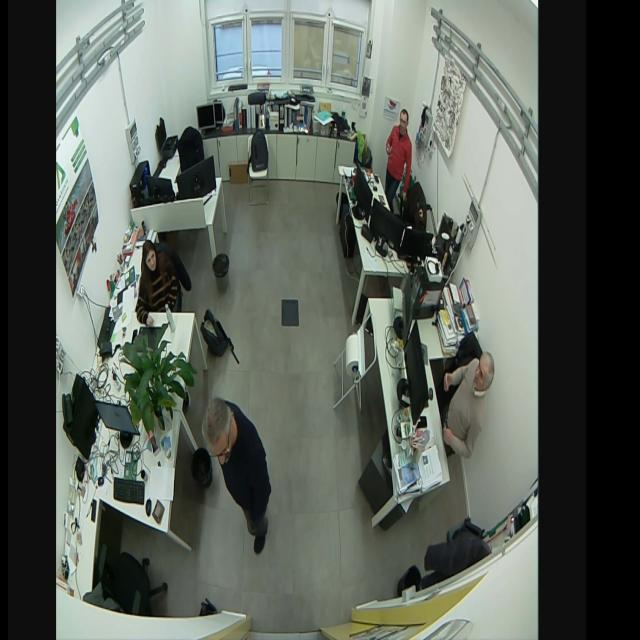Persona: (198, 393, 274, 557), (438, 348, 498, 463), (134, 237, 180, 329), (383, 104, 414, 204)
